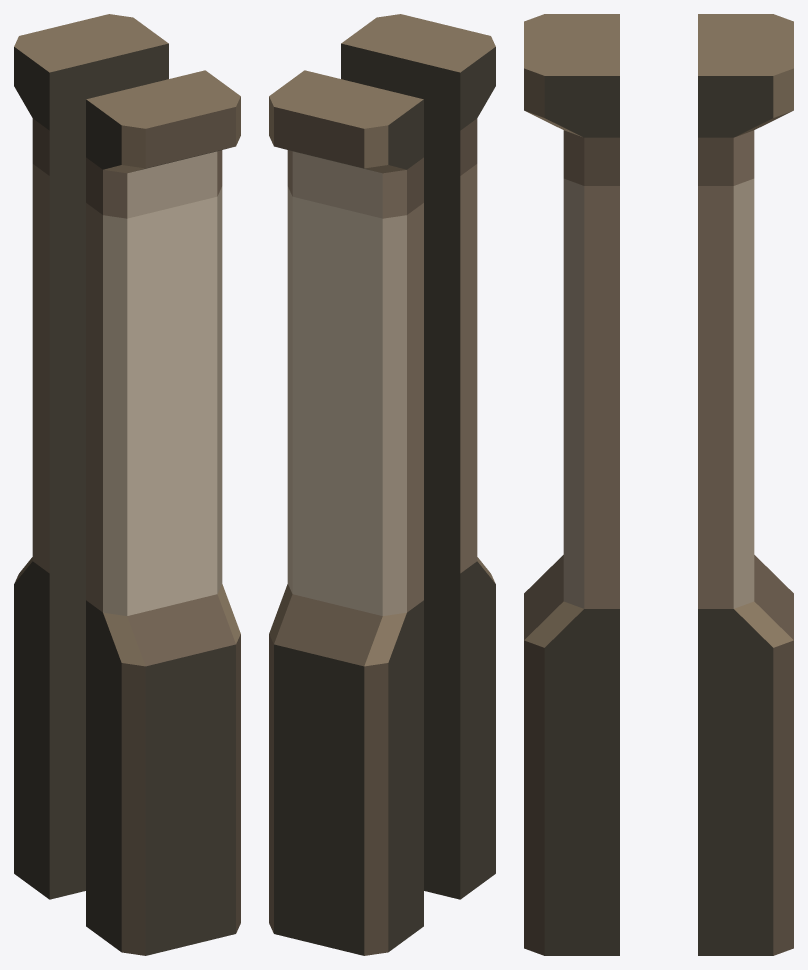
File: Cosmic_retro_station_column_02.fbx
The picture shows the model from 3 angles, left to right: view 1: azimuth 30°, elevation 25°; view 2: azimuth 150°, elevation 25°; view 3: azimuth 270°, elevation 25°; orthographic projection. The views are drawn at different scales.
Visible parts, largest first — view 1: Cosmic_retro_station_column_02; view 2: Cosmic_retro_station_column_02; view 3: Cosmic_retro_station_column_02.
Part boxes in pixels (box(x1,y1,x2,y2)): Cosmic_retro_station_column_02: box(14, 14, 240, 955); Cosmic_retro_station_column_02: box(269, 14, 495, 955); Cosmic_retro_station_column_02: box(524, 14, 793, 955).
Size of the model in its own units: 0.3772 by 2.5 by 0.6947.
